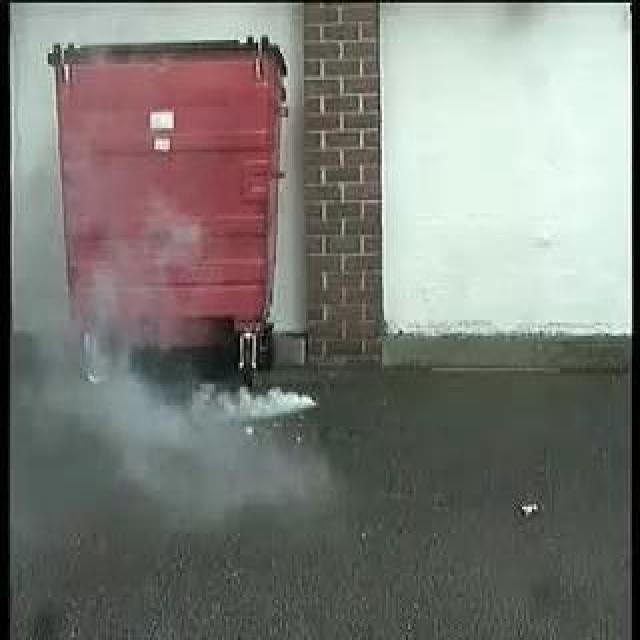Smoke: (78, 280, 322, 456)
